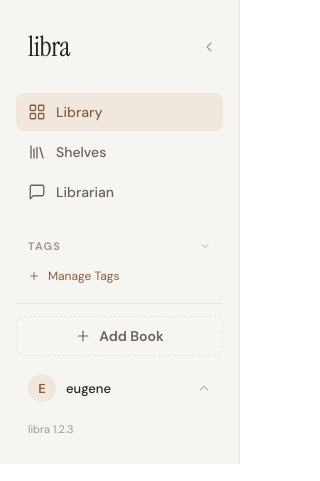
Sidebar, collapsed › opens back up, and the toggle says which way it goes
What coordinates should you click on to do the following:
click the button named "Collapse sidebar"
I would click on:
 (209, 46)
Its box is [195,32,223,60].
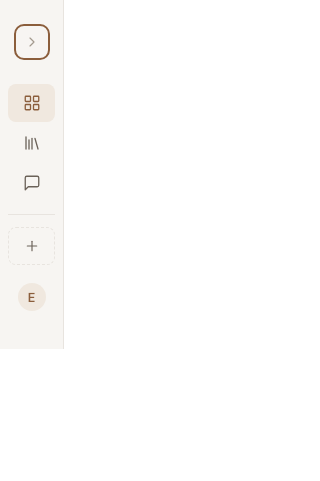
Check: the button named "Expand sidebar" is shown
What coordinates should you click on to do the following:
click the button named "Expand sidebar"
I would click on:
 (32, 42)
Its box is [18,28,46,56].
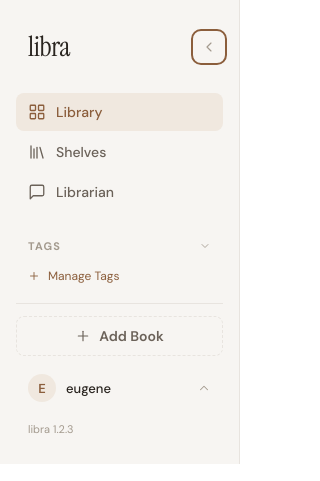
Check: the button named "Collapse sidebar" is shown, box [195,32,223,60]
Check: the button "Add Book" is shown, box [16,316,223,356]
